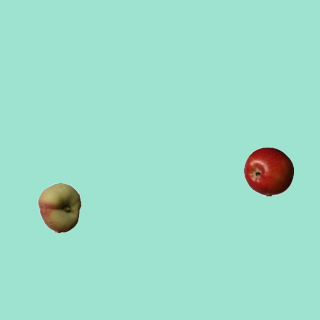Apple Braeburn: (243, 146, 293, 196)
Peach Flat: (34, 182, 84, 232)
